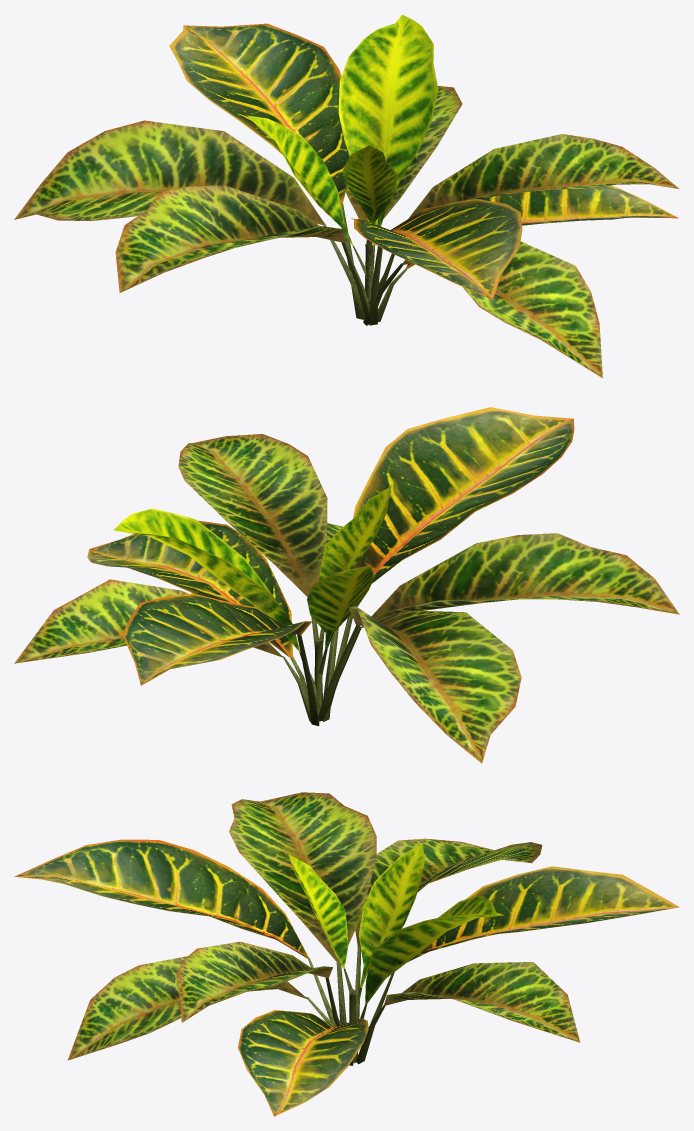
File: Croton_A.FBX
3 renders of one model, top to bottom at view 1: azimuth 30°, elevation 25°; view 2: azimuth 150°, elevation 25°; view 3: azimuth 270°, elevation 25°, orthographic. The views are drawn at different scales.
Parts seen in each view (by area): view 1: Object2653; view 2: Object2653; view 3: Object2653.
Boxes of the visible parts, box(x1,y1,x2,y2) form: Object2653: box(14, 14, 679, 378); Object2653: box(14, 407, 679, 763); Object2653: box(14, 792, 679, 1116).
Bounding box in the file's own units: 76.67 × 28.35 × 85.54.
